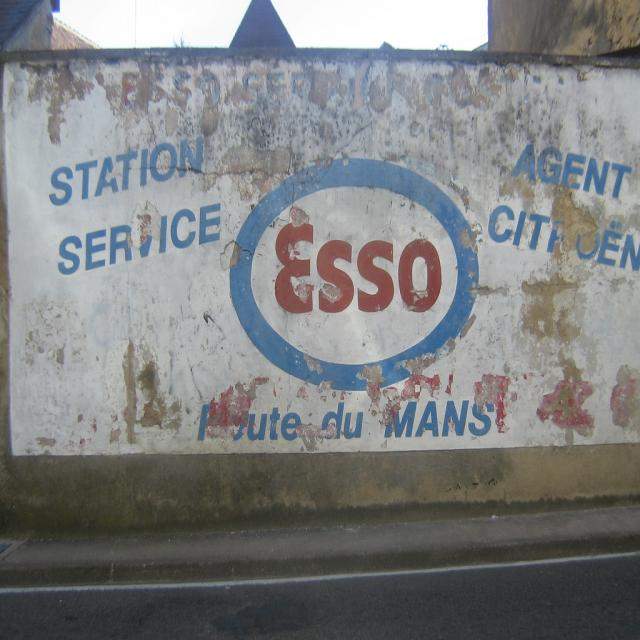esso: (217, 149, 489, 405)
